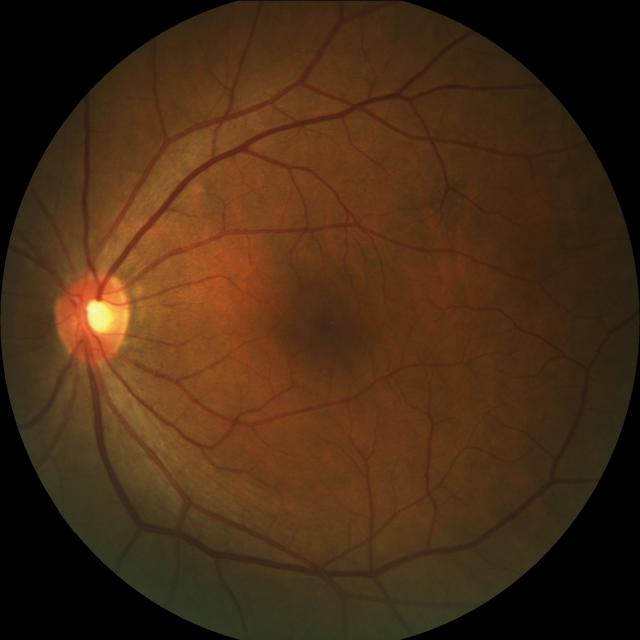OC: (82, 298, 117, 334)
OD: (58, 269, 132, 364)
